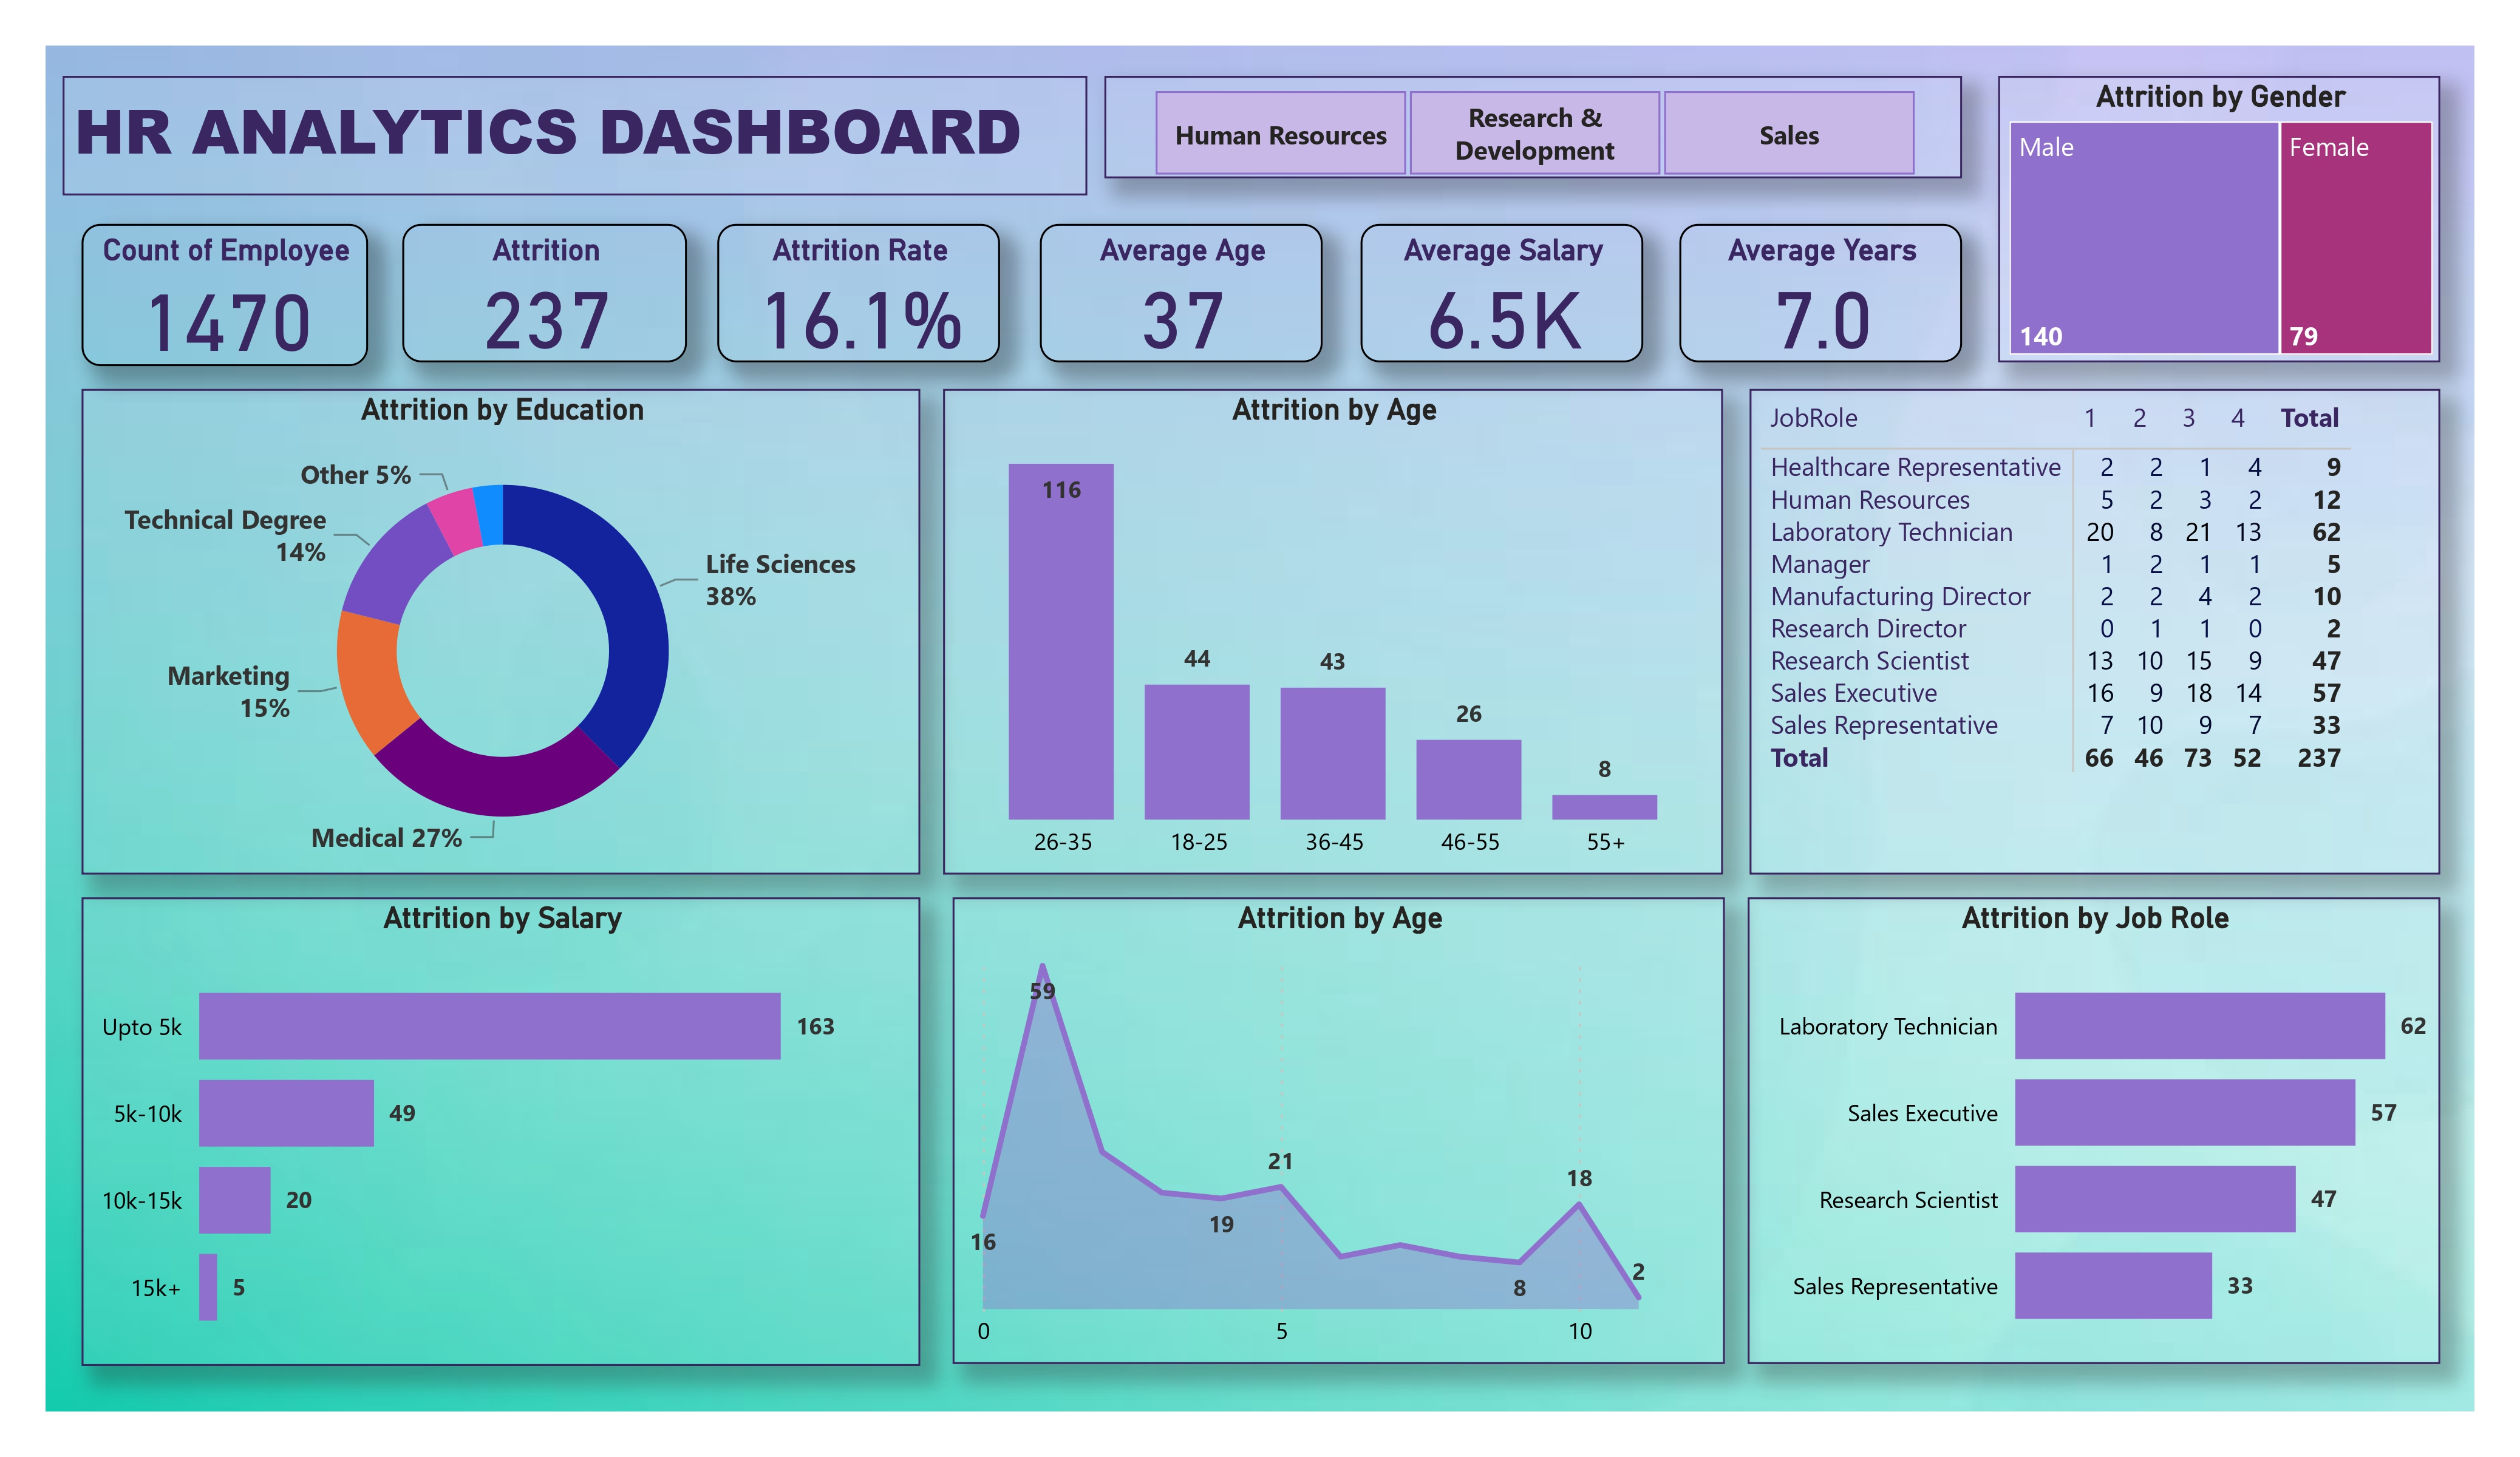

What the dashboard file says about the page in this screenshot:
{"tool":"powerbi","page":{"name":"Page 1","canvas":[1280,720],"ordinal":0},"visuals":[{"type":"card","title":"Count of Employee","fields":{"Values":["CountNonNull(HR_Analytics (2).EmpID)"]},"box":[19.3,93.6,150.8,75.4],"z":0},{"type":"card","title":"Attrition","fields":{"Values":["Sum(HR_Analytics (2).AttritionCount)"]},"box":[187.6,93.6,150.8,73.6],"z":1000},{"type":"card","title":"Attrition Rate","fields":{"Values":["HR_Analytics (2).AttritionRate"]},"box":[354.2,93.6,149,73.6],"z":2000},{"type":"card","title":"Average Age","fields":{"Values":["Avg(HR_Analytics (2).Age)"]},"box":[524.3,93.6,149,73.6],"z":3000},{"type":"card","title":"Average Salary","fields":{"Values":["Avg(HR_Analytics (2).MonthlyIncome)"]},"box":[692.6,93.6,149,73.6],"z":4000},{"type":"card","title":"Average Years","fields":{"Values":["Avg(HR_Analytics (2).YearsAtCompany)"]},"box":[860.9,93.6,149,73.6],"z":5000},{"type":"donutChart","title":"Attrition by Education","fields":{"Category":["HR_Analytics (2).EducationField"],"Y":["Sum(HR_Analytics (2).AttritionCount)"]},"box":[19.3,180.6,441.9,256],"z":6000},{"type":"columnChart","title":"Attrition by Age","fields":{"Category":["HR_Analytics (2).AgeGroup"],"Y":["Sum(HR_Analytics (2).AttritionCount)"]},"box":[473.4,180.6,410.3,256],"z":7000},{"type":"pivotTable","fields":{"Columns":["HR_Analytics (2).JobSatisfaction"],"Values":["Sum(HR_Analytics (2).AttritionCount)"],"Rows":["HR_Analytics (2).JobRole"]},"box":[897.8,180.6,364.7,256],"z":8000},{"type":"barChart","title":"Attrition by Salary","fields":{"Category":["HR_Analytics (2).SalarySlab"],"Y":["Sum(HR_Analytics (2).AttritionCount)"]},"box":[19.3,448.9,441.9,247.2],"z":9000},{"type":"clusteredBarChart","title":"Attrition by Job Role","fields":{"Category":["HR_Analytics (2).JobRole"],"Y":["Sum(HR_Analytics (2).AttritionCount)"]},"box":[897.2,449.5,365.2,245.8],"z":10000},{"type":"areaChart","title":"Attrition by Age","fields":{"Category":["HR_Analytics (2).YearsAtCompany"],"Y":["Sum(HR_Analytics (2).AttritionCount)"]},"box":[477.6,449.5,407.4,245.8],"z":11000},{"type":"treemap","title":"Attrition by Gender","fields":{"Group":["HR_Analytics (2).Gender"],"Values":["Sum(HR_Analytics (2).AttritionCount)"]},"box":[1029.3,15.8,233.2,150.8],"z":12000},{"type":"slicer","fields":{"Values":["HR_Analytics (2).Department"]},"box":[557.6,15.8,452.4,54.4],"z":13000},{"type":"textbox","box":[9,16,540,63],"z":14000}]}

Visuals, with their boxes in screenshot pixels (x1, y1, x2, y2):
"Count of Employee" card: pyautogui.locateOnScreen(82, 223, 369, 366)
"Attrition" card: pyautogui.locateOnScreen(401, 223, 687, 363)
"Attrition Rate" card: pyautogui.locateOnScreen(718, 223, 1001, 363)
"Average Age" card: pyautogui.locateOnScreen(1040, 223, 1323, 363)
"Average Salary" card: pyautogui.locateOnScreen(1360, 223, 1643, 363)
"Average Years" card: pyautogui.locateOnScreen(1679, 223, 1962, 363)
"Attrition by Education" donutChart: pyautogui.locateOnScreen(82, 388, 921, 874)
"Attrition by Age" columnChart: pyautogui.locateOnScreen(944, 388, 1723, 874)
pivotTable - HR_Analytics (2).JobSatisfaction x Sum(HR_Analytics (2).AttritionCount): pyautogui.locateOnScreen(1749, 388, 2441, 874)
"Attrition by Salary" barChart: pyautogui.locateOnScreen(82, 897, 921, 1366)
"Attrition by Job Role" clusteredBarChart: pyautogui.locateOnScreen(1748, 898, 2441, 1365)
"Attrition by Age" areaChart: pyautogui.locateOnScreen(952, 898, 1725, 1365)
"Attrition by Gender" treemap: pyautogui.locateOnScreen(1999, 75, 2441, 362)
slicer - HR_Analytics (2).Department: pyautogui.locateOnScreen(1104, 75, 1962, 178)
textbox: pyautogui.locateOnScreen(63, 76, 1088, 195)
